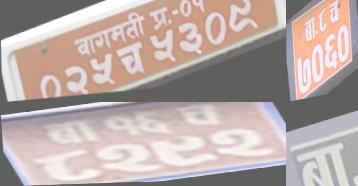0: (201, 10, 231, 54), (34, 68, 65, 100), (310, 38, 326, 87), (335, 19, 351, 68), (175, 0, 193, 24)
1: (97, 113, 145, 142), (190, 0, 209, 21)
2: (203, 126, 281, 164), (90, 141, 165, 178), (60, 58, 91, 98)
3: (175, 19, 207, 65)
5: (86, 50, 119, 96), (147, 28, 180, 72)
6: (131, 109, 180, 138), (322, 29, 339, 78)
7: (295, 48, 313, 98)
8: (25, 147, 107, 185), (317, 6, 328, 36)
9: (147, 134, 222, 170), (222, 0, 260, 45)
ba: (289, 137, 356, 186), (35, 116, 108, 149), (72, 32, 97, 63), (304, 13, 318, 46)
cha: (113, 39, 150, 86), (172, 102, 229, 132), (328, 0, 341, 29)
